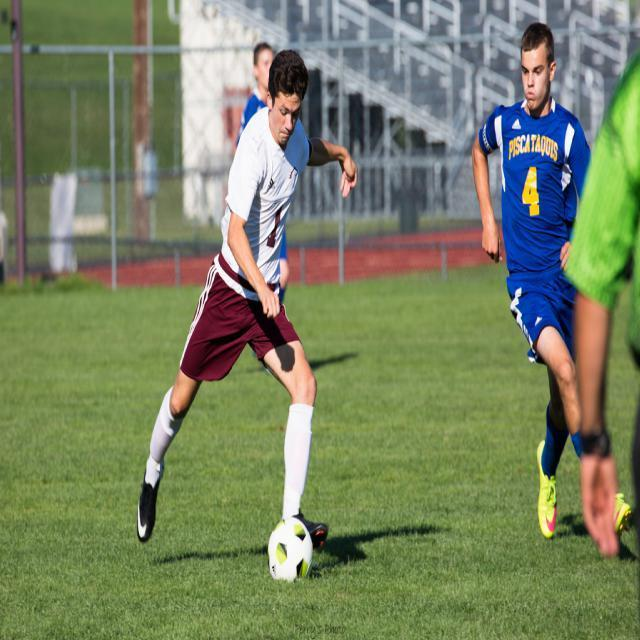football: (259, 509, 333, 597)
